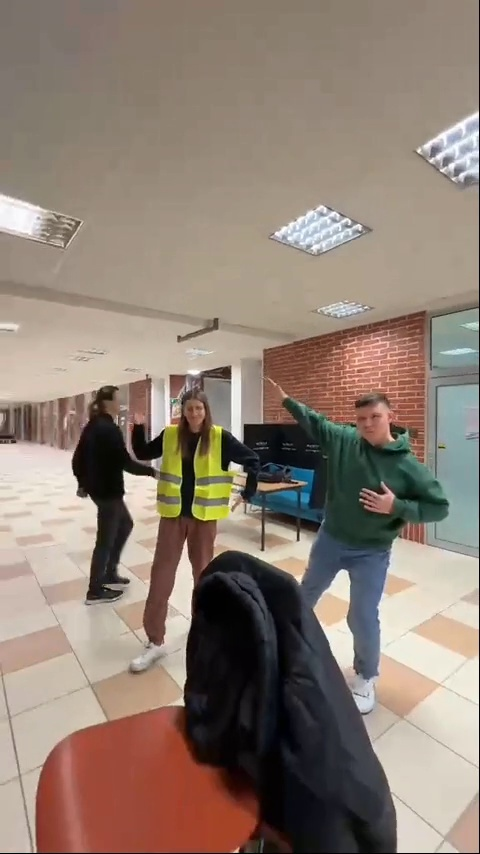no vest: (292, 385, 447, 687), (65, 382, 151, 616)
vest: (141, 392, 250, 662)
